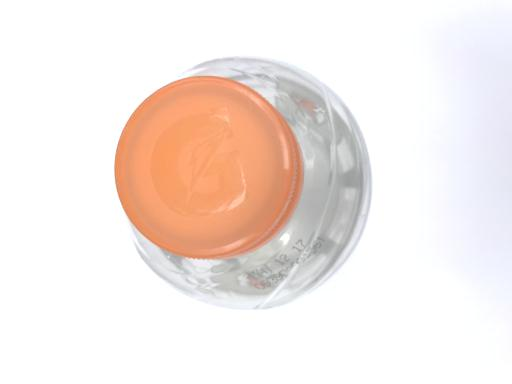bottle: (110, 37, 392, 318)
